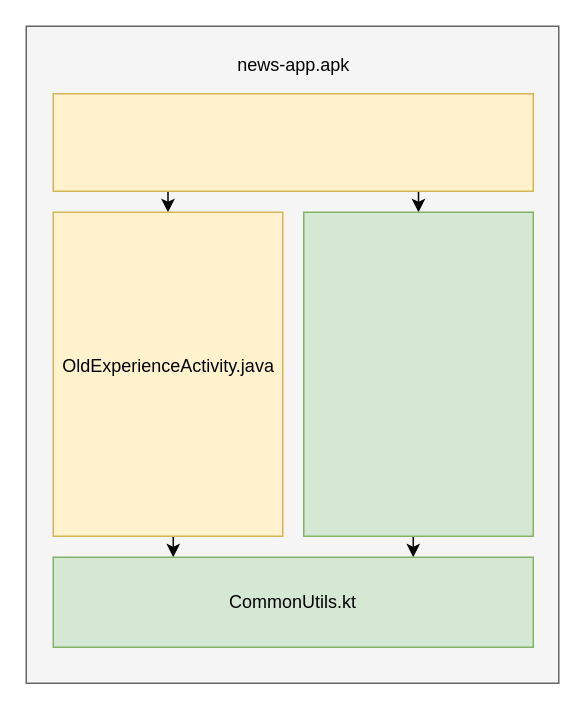
The diagram is 585 pixels wide and 710 high, and some of its shapes have lost their labels. The box of each missing label's shape, as (x1, y1, x2, y2) in pixels:
FireChannelsActivity.kt: (302, 211, 533, 536)
NewsApplication.java: (52, 92, 533, 191)
